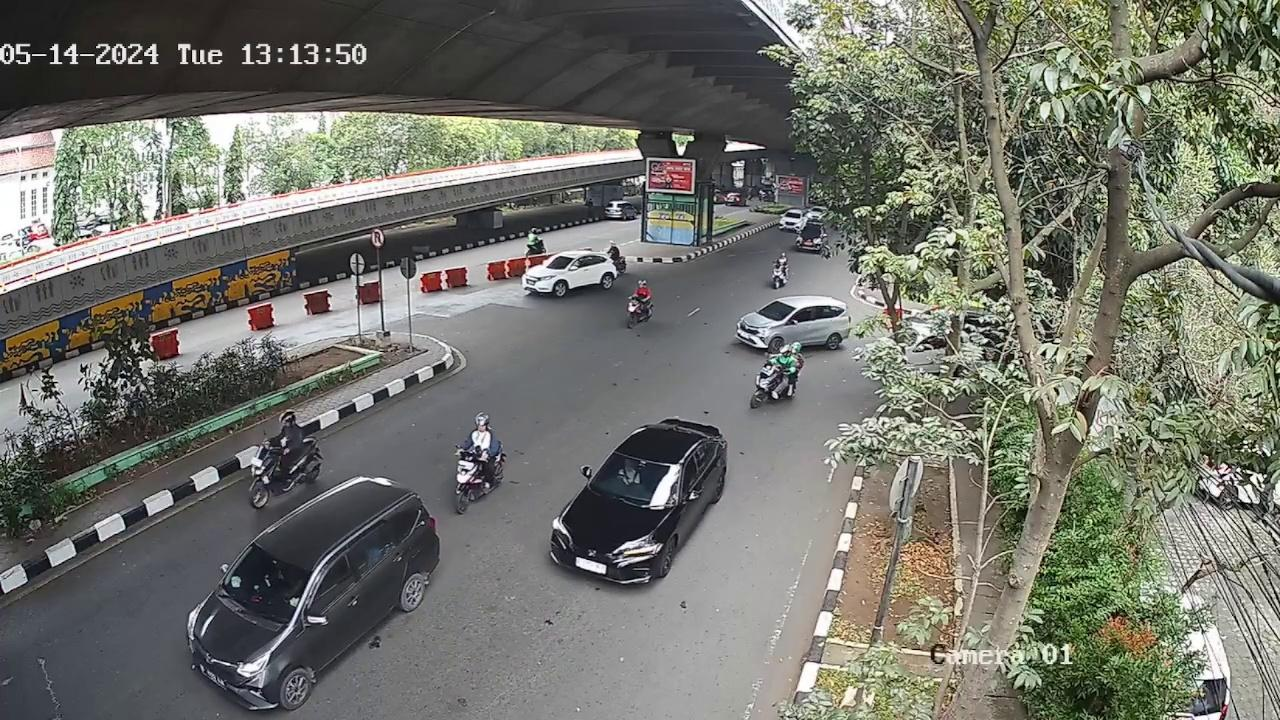pakai: (616, 464, 639, 487)
windshield: (221, 544, 308, 619), (590, 443, 681, 512)
